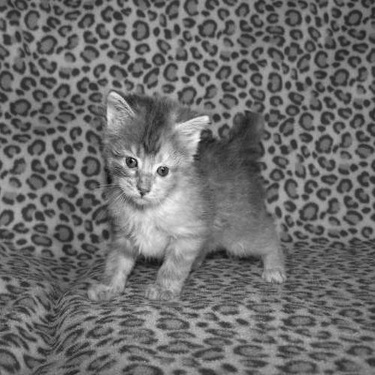cat: (55, 92, 303, 296)
